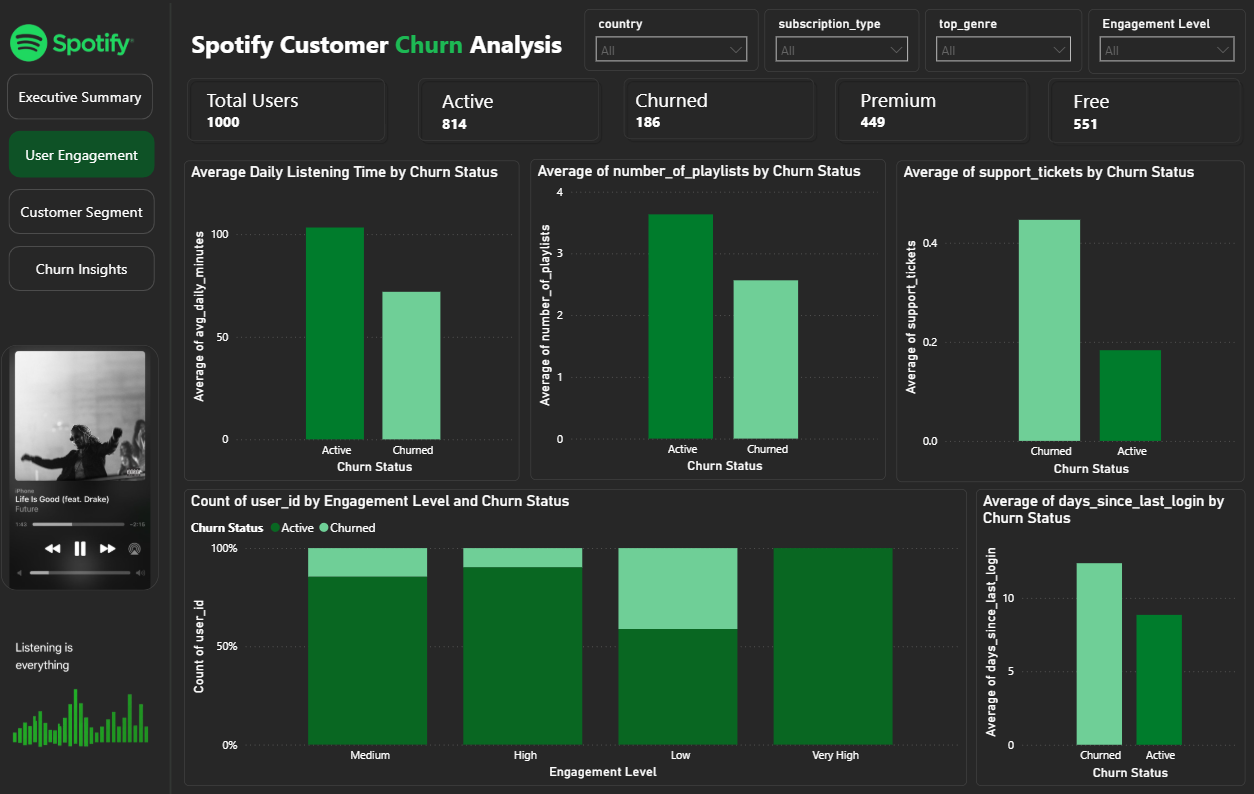

The page's visual inventory and layout, read from the dashboard file:
{"tool":"powerbi","page":{"name":"Page 2","canvas":[1400,900],"ordinal":1},"visuals":[{"type":"image","box":[8.8,0,161.2,88.8],"z":0},{"type":"textbox","box":[216.7,21.7,471.7,45],"z":1000},{"type":"shape","box":[212.3,77.7,230.1,80.1],"z":1000,"group":"g1"},{"type":"shape","box":[16.7,77.8,162.2,51.1],"z":2000},{"type":"textbox","box":[233.5,85.5,258.6,65.4],"z":3000,"group":"g1"},{"type":"shape","box":[17.5,141.8,162.5,52.5],"z":3000},{"type":"shape","box":[17.5,270,162.5,50],"z":4000},{"type":"shape","box":[17.5,207.1,162.5,50],"z":5000},{"type":"shape","box":[191.7,0,13.3,900],"z":6000},{"type":"slicer","fields":{"Values":["spotify_churn_dataset.country"]},"box":[658.3,6.7,193.3,68.3],"z":7000},{"type":"slicer","fields":{"Values":["spotify_churn_dataset.subscription_type"]},"box":[858.4,6.7,171.7,70],"z":8000},{"type":"slicer","fields":{"Values":["spotify_churn_dataset.top_genre"]},"box":[1036.9,7.3,174.5,70],"z":9000},{"type":"shape","box":[468,78,211.2,80],"z":9000,"group":"g2"},{"type":"slicer","fields":{"Values":["spotify_churn_dataset.Engagement Level"]},"box":[1218.2,6.4,174.5,71.8],"z":10000},{"type":"group","id":"g1","title":"Group 1","box":[212.3,77.7,279.2,80],"z":11000},{"type":"textbox","box":[494.4,88,186,68.4],"z":11000,"group":"g2"},{"type":"group","id":"g2","title":"Group 2","box":[468,78,212,80],"z":12000},{"type":"shape","box":[932.3,77.7,223.7,80],"z":13000,"group":"g5"},{"type":"group","id":"g3","title":"Group 3","box":[696,78,220,78],"z":13000},{"type":"group","id":"g4","title":"Group 4","box":[1168,78,224,82],"z":14000},{"type":"textbox","box":[708.6,85.8,208.9,65.4],"z":14000,"group":"g3"},{"type":"group","id":"g5","title":"Group 5","box":[932.3,77.7,233.8,80],"z":15000},{"type":"shape","box":[696,78,222,78],"z":15000,"group":"g3"},{"type":"textbox","box":[961.1,86.6,205.1,63.5],"z":16000,"group":"g5"},{"type":"image","box":[10,380,175,272.5],"z":16000},{"type":"shape","box":[1168,78,224,82],"z":17000,"group":"g4"},{"type":"image","box":[10,697.5,176.2,155],"z":17000},{"type":"textbox","box":[1196.7,87.6,194.4,62.9],"z":18000,"group":"g4"},{"type":"columnChart","title":"Average Daily Listening Time by Churn Status","fields":{"Category":["spotify_churn_dataset.Churn Status"],"Y":["Avg(spotify_churn_dataset.avg_daily_minutes)"]},"box":[213.8,174.5,373,355.8],"z":18000},{"type":"clusteredColumnChart","fields":{"Category":["spotify_churn_dataset.Churn Status"],"Y":["Avg(spotify_churn_dataset.number_of_playlists)"]},"box":[598.9,173.3,394.4,356.7],"z":19000},{"type":"columnChart","fields":{"Y":["Avg(spotify_churn_dataset.support_tickets)"],"Category":["spotify_churn_dataset.Churn Status"]},"box":[1004.2,174.5,386.6,357.6],"z":20000},{"type":"columnChart","fields":{"Y":["Avg(spotify_churn_dataset.days_since_last_login)"],"Category":["spotify_churn_dataset.Churn Status"]},"box":[1093.2,540.6,299.4,330.2],"z":21000},{"type":"hundredPercentStackedColumnChart","fields":{"Category":["spotify_churn_dataset.Engagement Level"],"Series":["spotify_churn_dataset.Churn Status"],"Y":["CountNonNull(spotify_churn_dataset.user_id)"]},"box":[213.3,540,870,330],"z":22000}]}

Visuals, with their boxes in screenshot pixels (x1, y1, x2, y2), scaled from the page's 1400x900 canvas onto the 1254x794 screenshot:
image: region(8, 0, 152, 78)
textbox: region(194, 19, 617, 59)
shape: region(190, 69, 396, 139)
shape: region(15, 69, 160, 114)
textbox: region(209, 75, 441, 133)
shape: region(16, 125, 161, 171)
shape: region(16, 238, 161, 282)
shape: region(16, 183, 161, 227)
shape: region(172, 0, 184, 793)
slicer - spotify_churn_dataset.country: region(590, 6, 763, 66)
slicer - spotify_churn_dataset.subscription_type: region(769, 6, 923, 68)
slicer - spotify_churn_dataset.top_genre: region(929, 6, 1085, 68)
shape: region(419, 69, 608, 139)
slicer - spotify_churn_dataset.Engagement Level: region(1091, 6, 1247, 69)
"Group 1" group: region(190, 69, 440, 139)
textbox: region(443, 78, 609, 138)
"Group 2" group: region(419, 69, 609, 139)
shape: region(835, 69, 1035, 139)
"Group 3" group: region(623, 69, 820, 138)
"Group 4" group: region(1046, 69, 1247, 141)
textbox: region(635, 76, 822, 133)
"Group 5" group: region(835, 69, 1044, 139)
shape: region(623, 69, 822, 138)
textbox: region(861, 76, 1045, 132)
image: region(9, 335, 166, 576)
shape: region(1046, 69, 1247, 141)
image: region(9, 615, 167, 752)
textbox: region(1072, 77, 1246, 133)
"Average Daily Listening Time by Churn Status" columnChart: region(192, 154, 526, 468)
clusteredColumnChart - spotify_churn_dataset.Churn Status x Avg(spotify_churn_dataset.number_of_playlists): region(536, 153, 890, 468)
columnChart - Avg(spotify_churn_dataset.support_tickets) x spotify_churn_dataset.Churn Status: region(899, 154, 1246, 469)
columnChart - Avg(spotify_churn_dataset.days_since_last_login) x spotify_churn_dataset.Churn Status: region(979, 477, 1247, 768)
hundredPercentStackedColumnChart - spotify_churn_dataset.Engagement Level x spotify_churn_dataset.Churn Status: region(191, 476, 970, 768)
